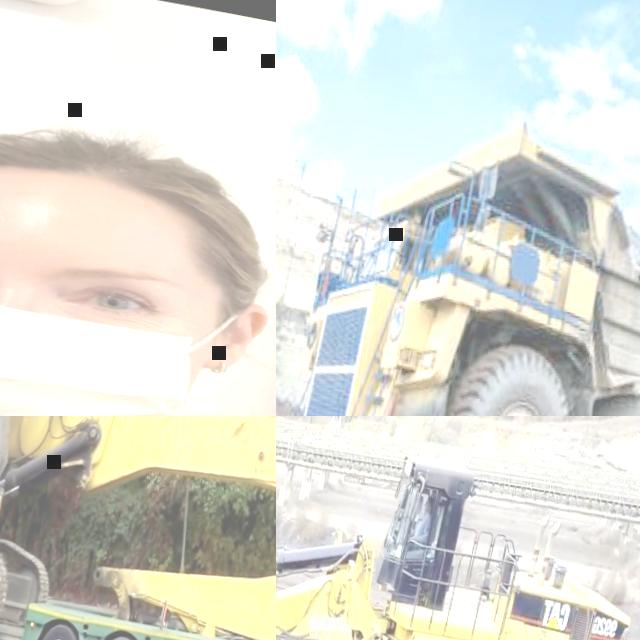machinery: (276, 76, 640, 416), (276, 416, 640, 640), (0, 416, 276, 640), (0, 416, 94, 640)
mask: (0, 234, 241, 416)
no_helmet: (0, 94, 271, 257), (424, 497, 433, 508)
no_mask: (422, 506, 428, 512)
no_vest: (414, 512, 431, 542)
person: (0, 67, 276, 416), (407, 494, 434, 546)
